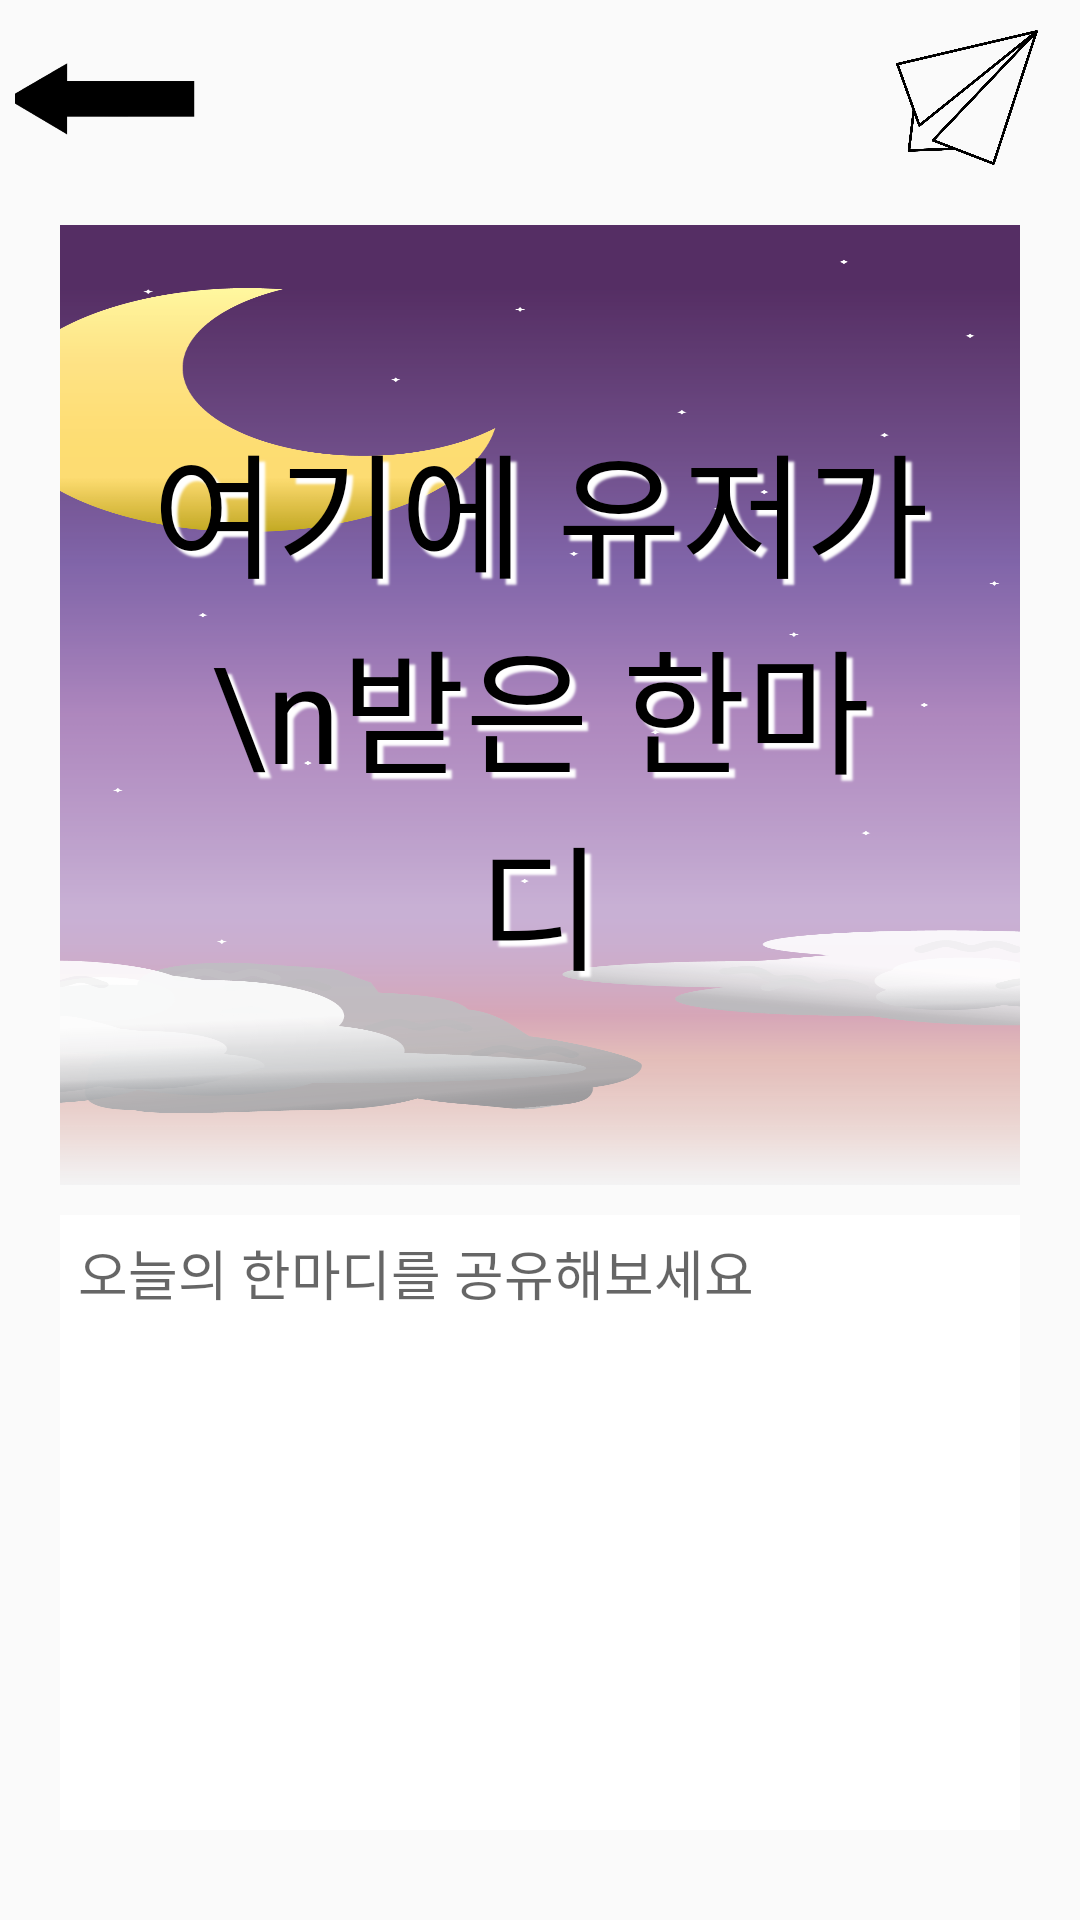

Icon bounding boxes for this 1080w x 1920h phone screenshot, format Rect(x1, y1, x2, y2):
back: Rect(15, 63, 195, 135)
send: Rect(896, 30, 1038, 165)
